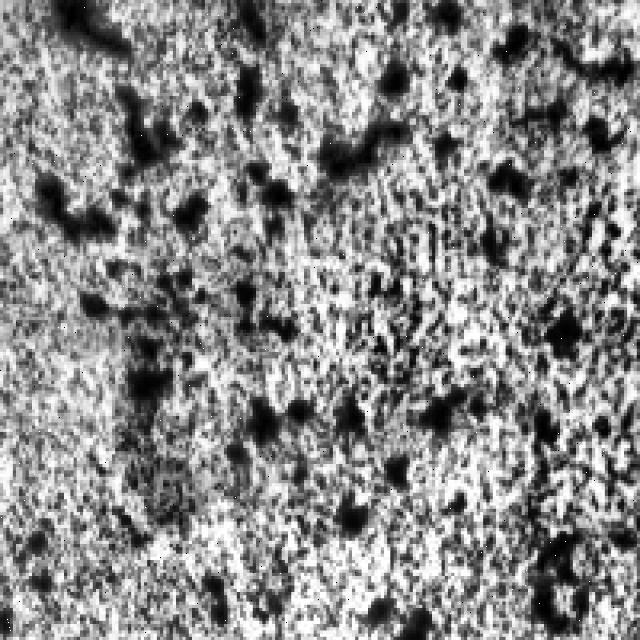Rolled_in_Scale: (32, 0, 617, 582)
